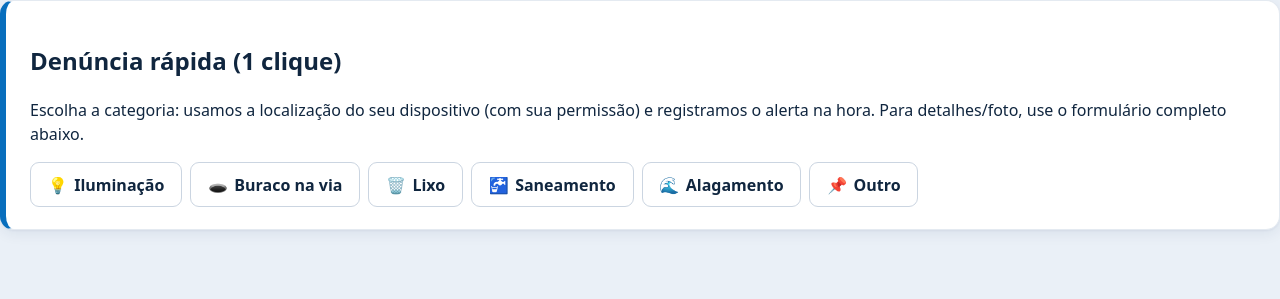
RelatoRapido (denúncia com 1 clique) › mostra erro quando a localização falha
This screenshot has width=1280, height=299.
Click the button "🗑️ Lixo": (416,185) [368,162,463,207]
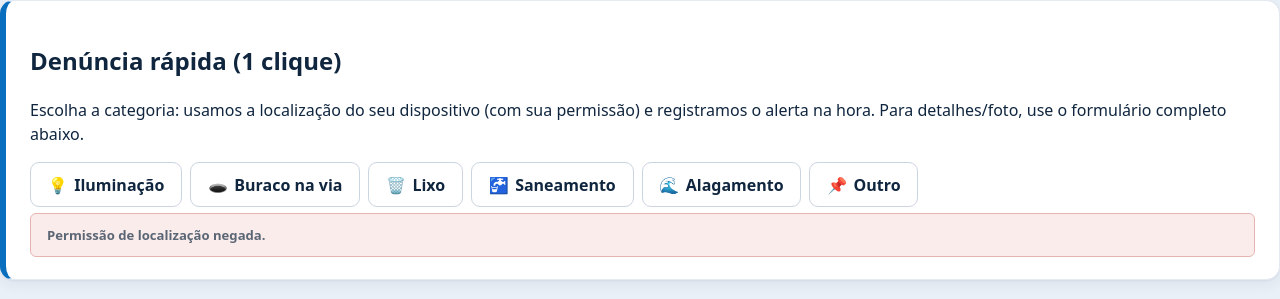
Expected: the text "Permissão de localização negada." is shown, [30,213,1255,257]
